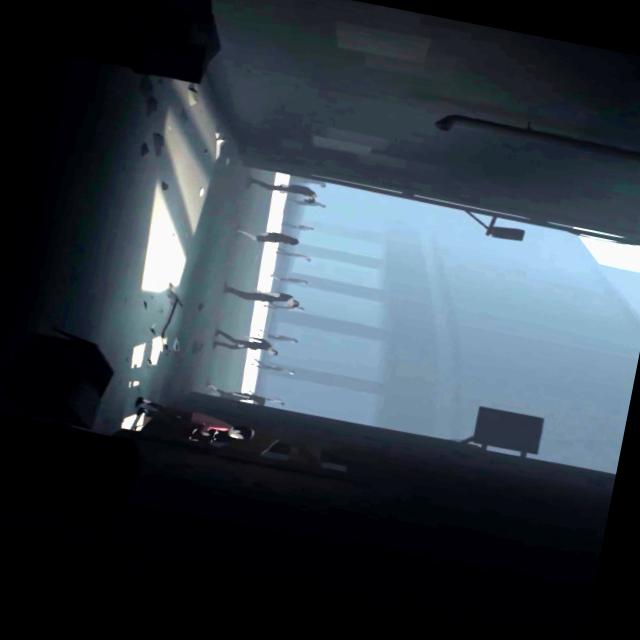boy: (129, 395, 256, 451)
zombie: (222, 282, 300, 310), (212, 330, 280, 360), (246, 176, 318, 202), (202, 382, 266, 406), (237, 226, 300, 250), (250, 361, 295, 376), (257, 330, 298, 344), (270, 274, 309, 288), (280, 219, 316, 234), (276, 248, 312, 262), (265, 396, 285, 406)
